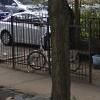Bicycle: (25, 33, 84, 75)
